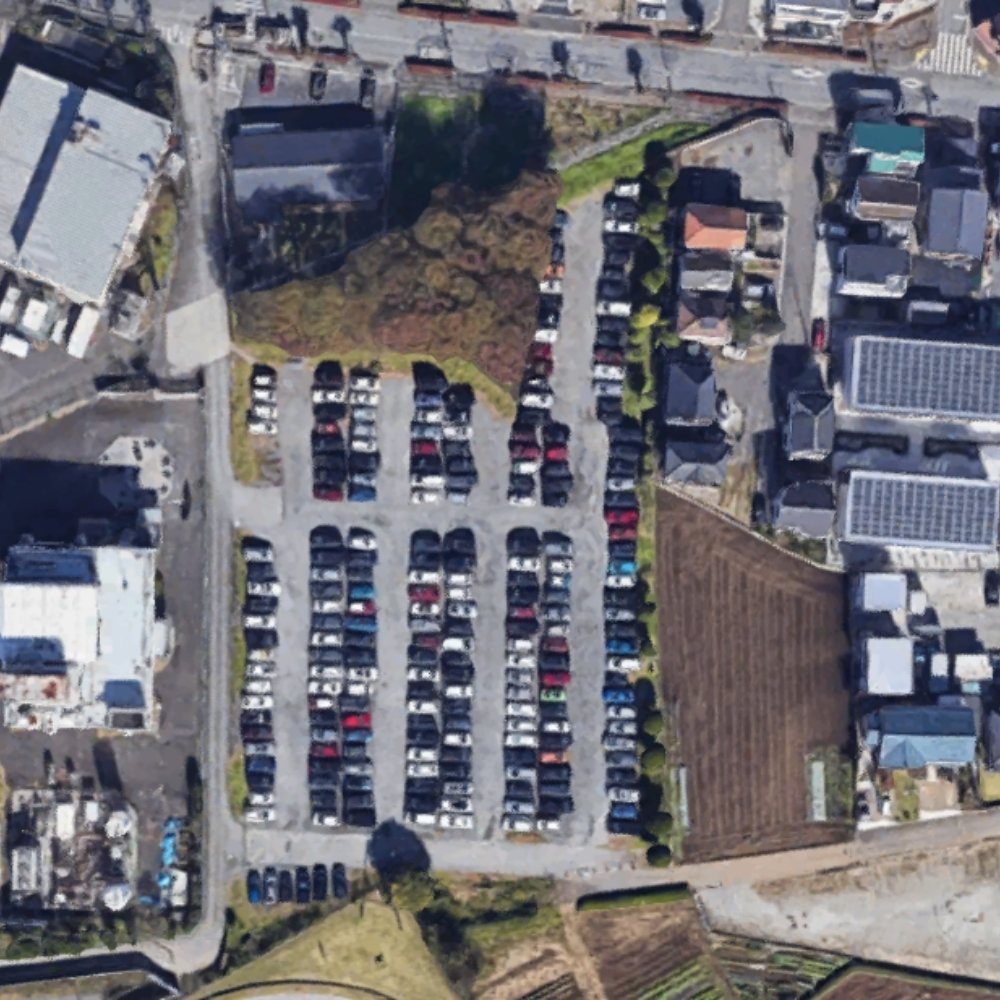parking: (230, 175, 645, 845)
